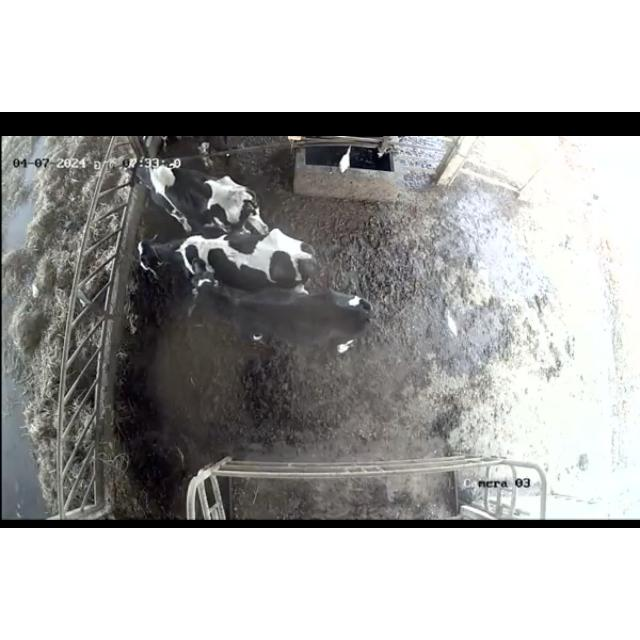propping: (174, 240, 240, 322)
